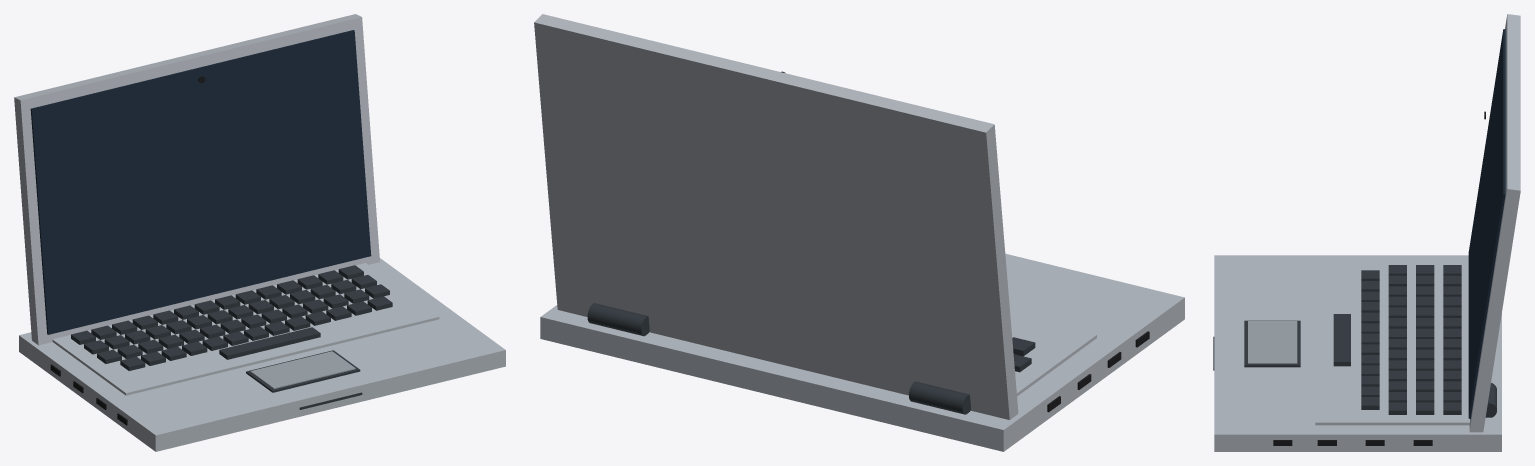
Rendered from laptop.glb.
3 renders of one model, left to right at view 1: azimuth 30°, elevation 25°; view 2: azimuth 150°, elevation 25°; view 3: azimuth 270°, elevation 25°, orthographic. The views are drawn at different scales.
Parts seen in each view (by area): view 1: Display Glass, Laptop Base, Display Frame, Keyboard Deck, Trackpad Surface, Spacebar, Trackpad Border; view 2: Display Frame, Laptop Base, Keyboard Deck, Screen Hinge.001, Screen Hinge; view 3: Laptop Base, Keyboard Deck, Display Glass, Display Frame, Trackpad Surface, Spacebar, Trackpad Border.
Boxes of the visible parts, x1,y1,x2,y2 form: Display Glass: [30, 30, 371, 334]; Laptop Base: [19, 258, 505, 451]; Display Frame: [14, 14, 379, 345]; Keyboard Deck: [52, 263, 439, 395]; Trackpad Surface: [250, 351, 355, 388]; Spacebar: [219, 327, 320, 359]; Trackpad Border: [246, 350, 360, 392]; Display Frame: [534, 14, 1018, 419]; Laptop Base: [540, 253, 1184, 451]; Keyboard Deck: [1010, 313, 1096, 396]; Screen Hinge.001: [587, 303, 649, 336]; Screen Hinge: [909, 381, 970, 414]; Laptop Base: [1214, 255, 1501, 451]; Keyboard Deck: [1315, 262, 1469, 425]; Display Glass: [1468, 29, 1505, 418]; Display Frame: [1469, 14, 1520, 432]; Trackpad Surface: [1248, 321, 1297, 363]; Spacebar: [1333, 314, 1350, 366]; Trackpad Border: [1244, 320, 1300, 367].
Bounding box in the file's own units: 6.24 × 4.31 × 4.49.
